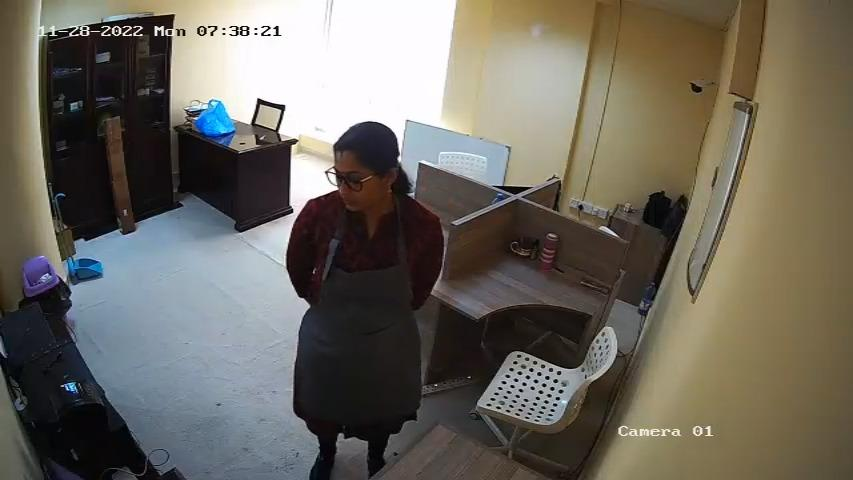apron: (309, 215, 412, 423)
